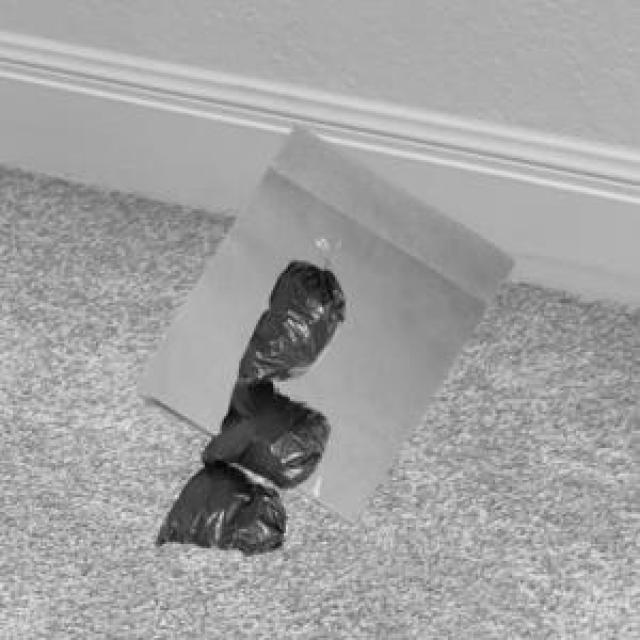miscellaneous trash: (152, 258, 341, 553)
paper: (132, 122, 510, 521)
